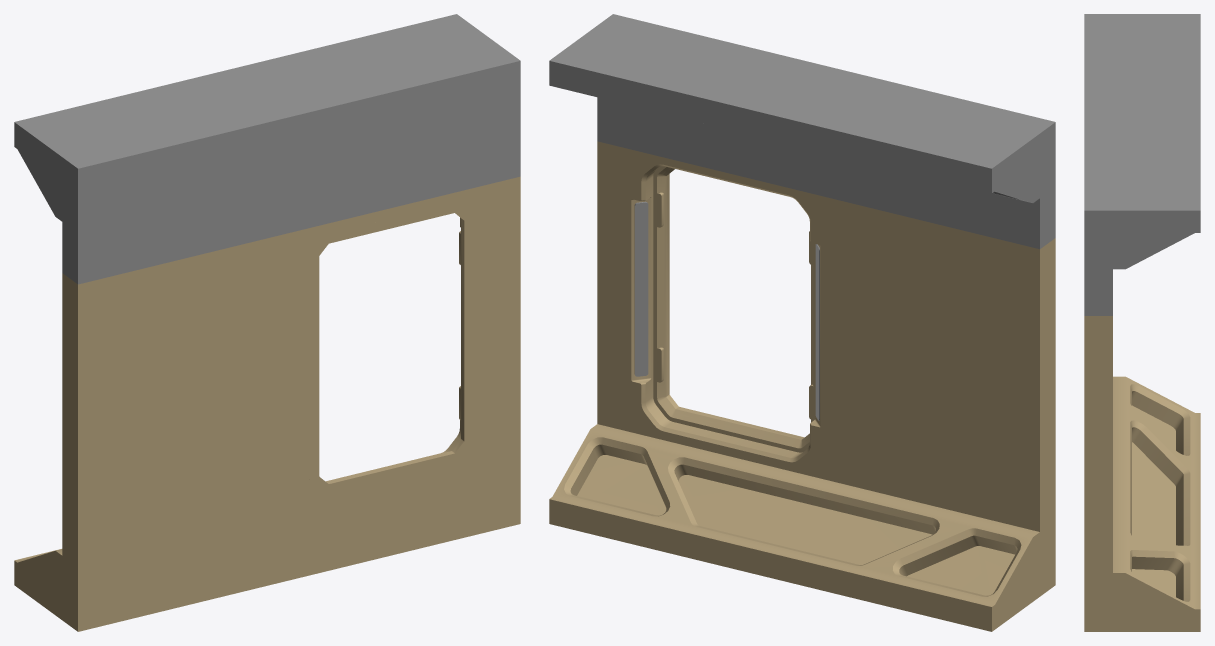
The model's file is door_low_test.FBX.
3 renders of one model, left to right at view 1: azimuth 30°, elevation 25°; view 2: azimuth 150°, elevation 25°; view 3: azimuth 270°, elevation 25°, orthographic. The views are drawn at different scales.
Visible parts, largest first — view 1: wall_low, floor_low, dool_low; view 2: wall_low, floor_low, dool_low, wall_high_05; view 3: wall_low, floor_low.
Boxes of the visible parts, x1,y1,x2,y2 form: wall_low: (14,176,520,631); floor_low: (14,14,520,284); dool_low: (309,202,473,494); wall_low: (549,141,1055,631); floor_low: (549,14,1055,249); dool_low: (653,166,815,452); wall_high_05: (634,201,819,420); wall_low: (1084,316,1200,631); floor_low: (1084,14,1200,315).
Bounding box in the file's own units: 400 × 400 × 99.99.
